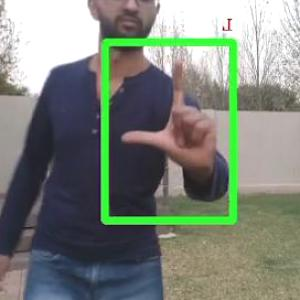land_hand: (112, 48, 220, 183)
